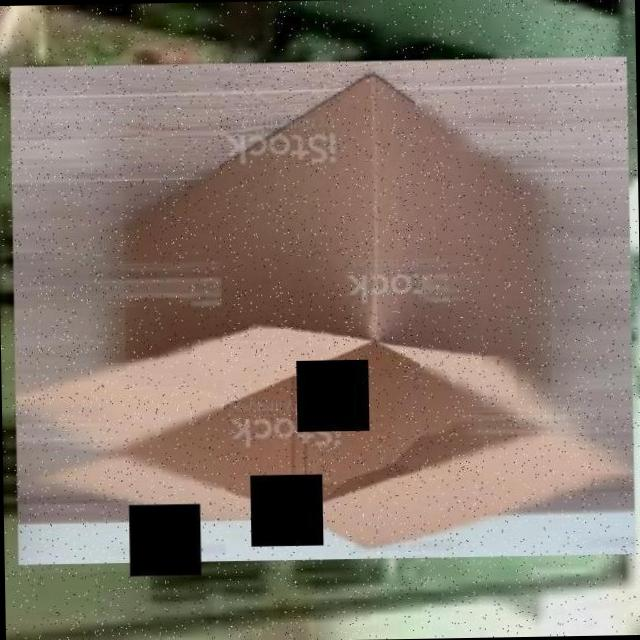box: (0, 47, 640, 573)
